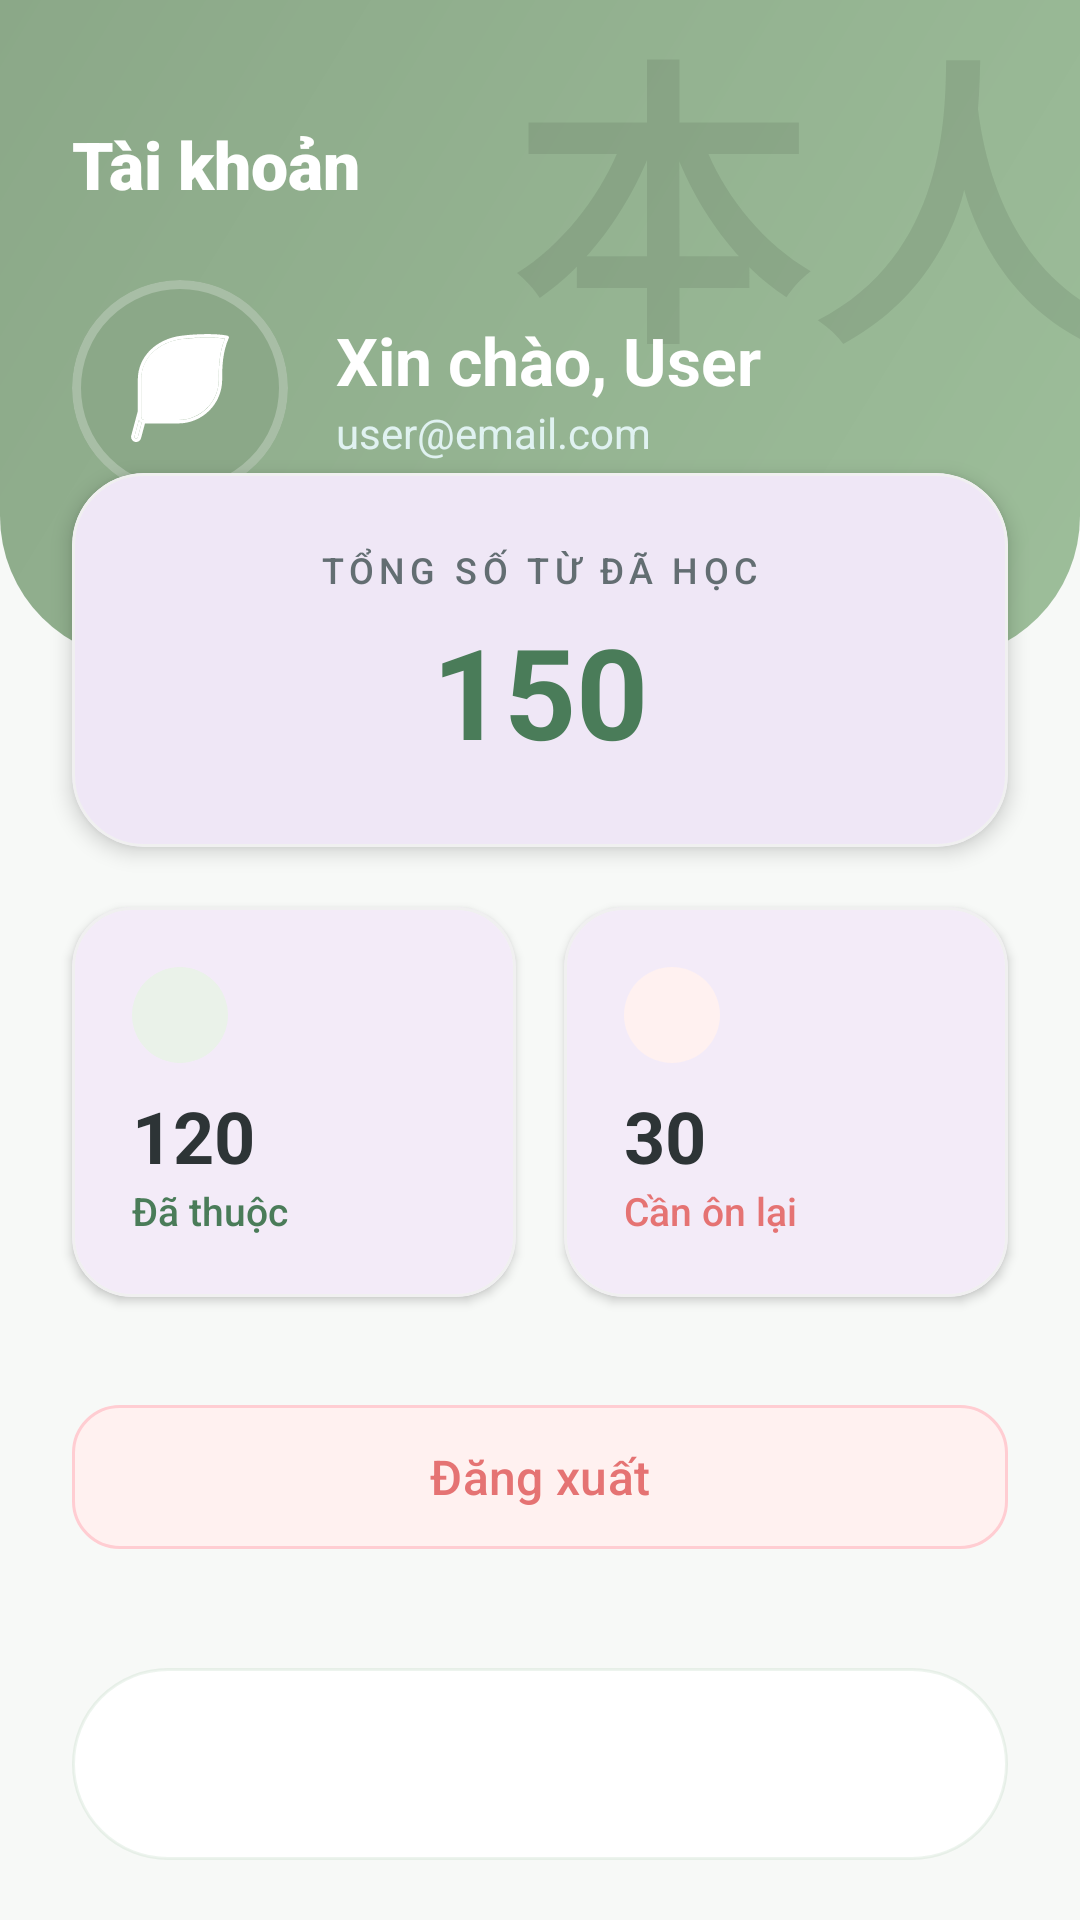

Icon bounding boxes for this 1080w x 1920h phone screenshot, format (x1, y1, x2, y2):
leaf zen: (72, 280, 288, 471)
